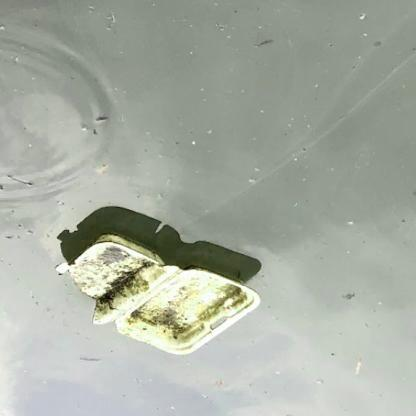Plastic: (53, 229, 265, 359)
